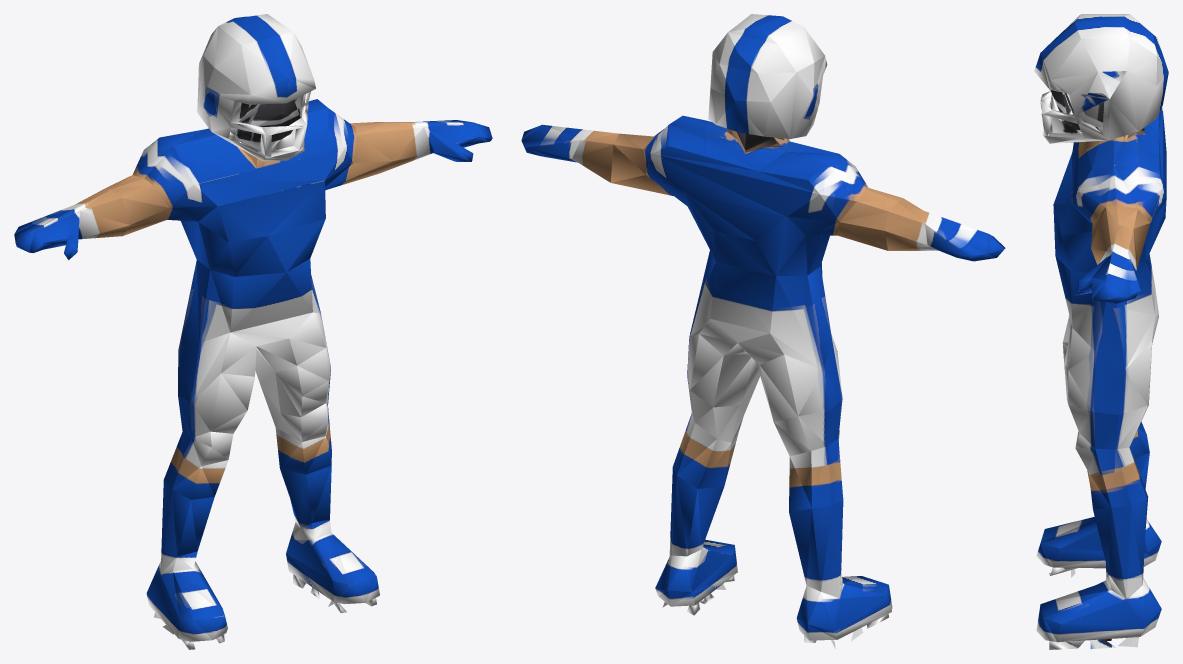
File: ultra-low-poly-small-prepped.glb
3 views of the same model, side by side, from view 1: azimuth 30°, elevation 25°; view 2: azimuth 150°, elevation 25°; view 3: azimuth 270°, elevation 25° (orthographic).
Parts seen in each view (by area): view 1: Mesh_0; view 2: Mesh_0; view 3: Mesh_0.
Part boxes in pixels (bbox=[...]): Mesh_0: bbox=[14, 14, 492, 649]; Mesh_0: bbox=[521, 14, 1005, 648]; Mesh_0: bbox=[1034, 14, 1168, 649].
Bounding box in the file's own units: 1.56 × 1.85 × 0.3844.
Materials: 1 (1 with a texture image).
